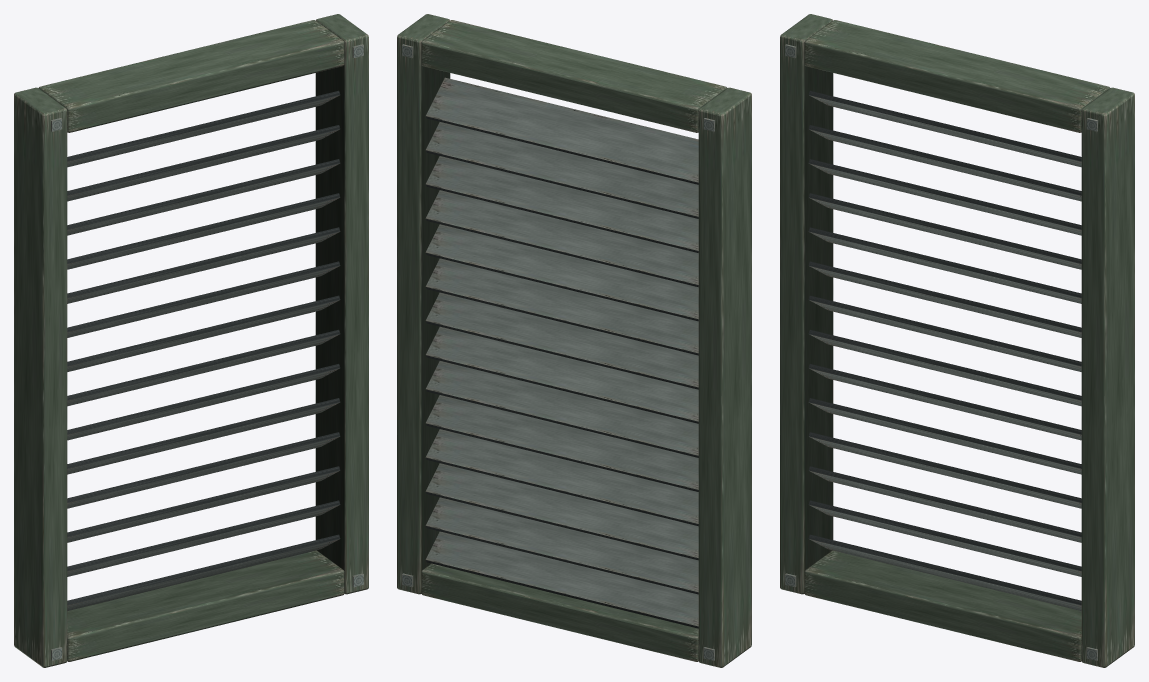
The model's file is vent_grate.glb.
3 views of the same model, side by side, from view 1: azimuth 30°, elevation 25°; view 2: azimuth 150°, elevation 25°; view 3: azimuth 330°, elevation 25° (orthographic).
Visible parts, largest first — view 1: VentGrate; view 2: VentGrate; view 3: VentGrate.
Boxes of the visible parts, <box> form: VentGrate: <box>14,14,368,667</box>; VentGrate: <box>397,14,751,667</box>; VentGrate: <box>780,14,1134,667</box>.
Size of the model in its own units: 1.6 by 2.6 by 0.28.
1 material, 1 textured.
